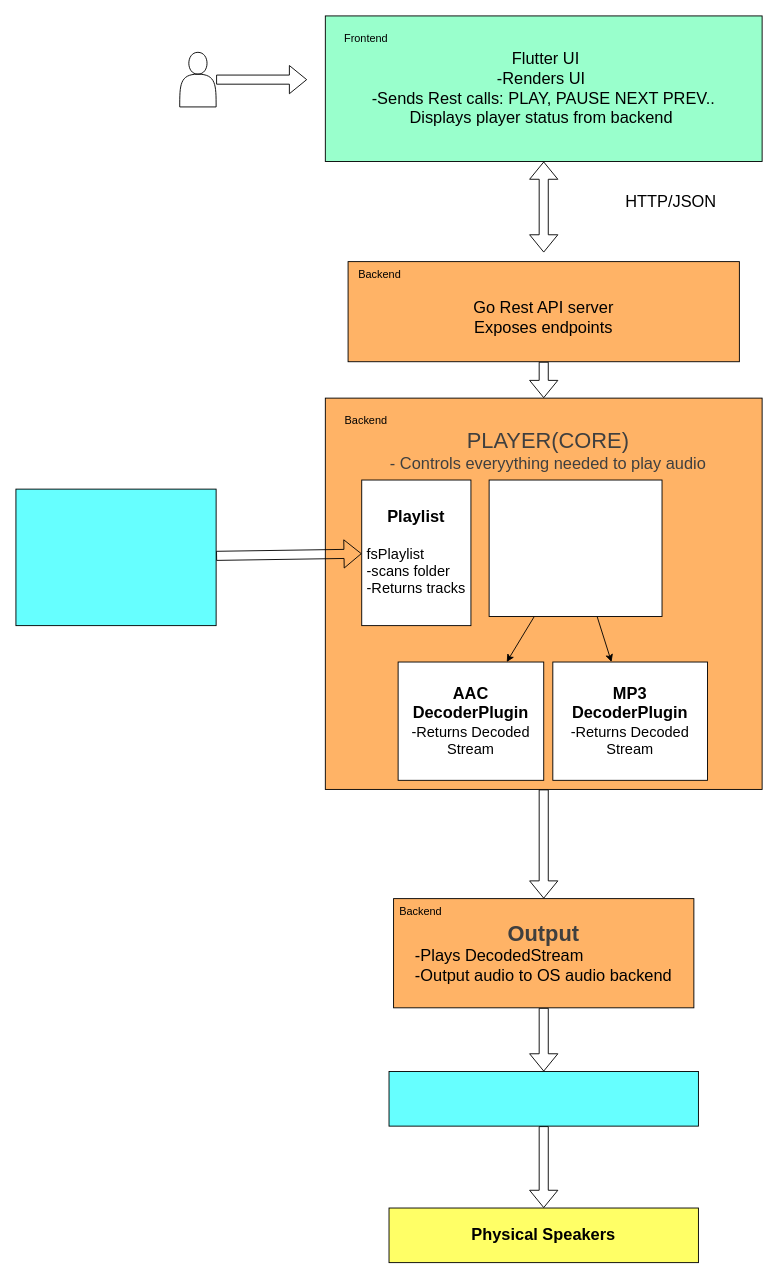
Some shapes in this 778 by 1279 pixel diagram are drawn without their labels. The shapes that lost their labels are listed below. From the top down, each one's centre as x and y in pixels, then its label:
At pixel 115 557: "Local File System -Stores audio files with different format -Used by FSPlaylist".
At pixel 575 548: "Registry core.Registry -Finds matching decoder plugin".
At pixel 543 1098: "External: OS Audio System (WASAPI / CoreAudio / ALSA / OpenSL)".
